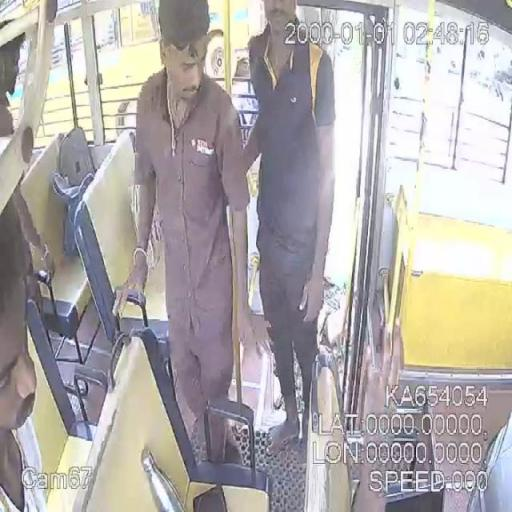persona: (114, 0, 254, 466), (238, 0, 336, 456)
